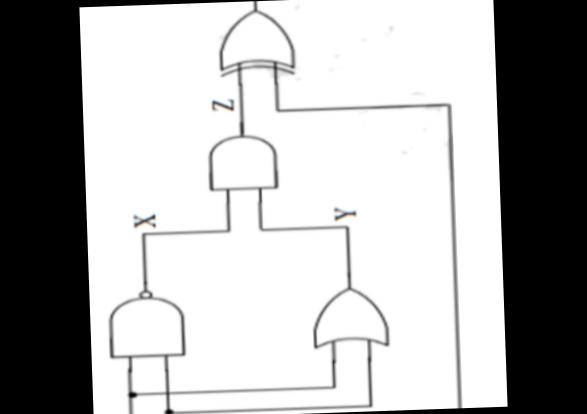and: (101, 278, 191, 370), (200, 129, 280, 198)
or: (297, 283, 401, 350)
xor: (214, 5, 302, 81)
